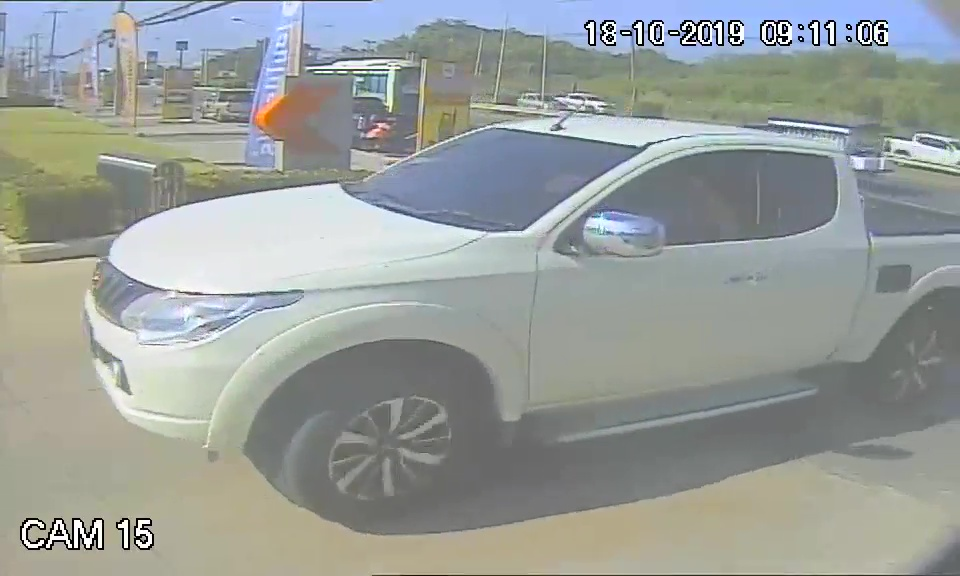pickup: (77, 114, 883, 512)
